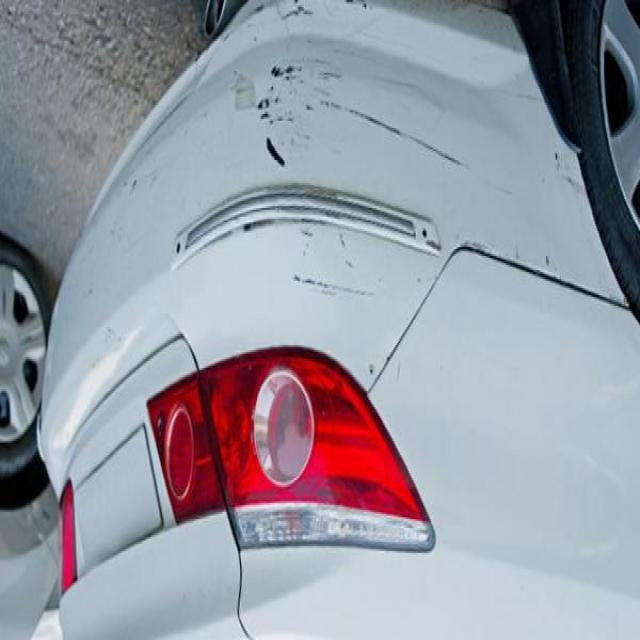scratch: (318, 81, 467, 180), (293, 258, 407, 306)
